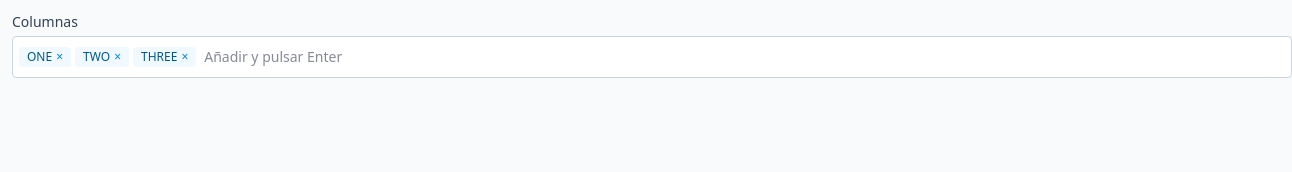
Test case: ChipInput › removes the chip via × without leaving a gap
The image size is (1292, 172).
Expected: the element with test id "cols-chip-0" shows "ONE", [27, 48, 52, 65]
Expected: the element with test id "cols-chip-1" shows "TWO", [83, 48, 110, 65]
Click the button with test id "cols-remove-1". click: (118, 57)
box: [114, 49, 121, 65]
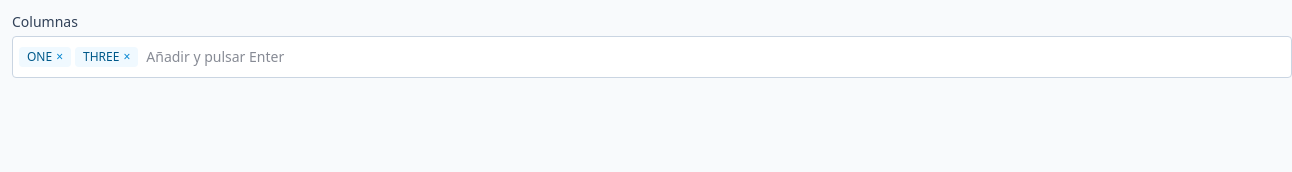
Expected: the element with test id "cols-chip-0" shows "ONE", [27, 48, 52, 65]
Expected: the element with test id "cols-chip-2" is gone
